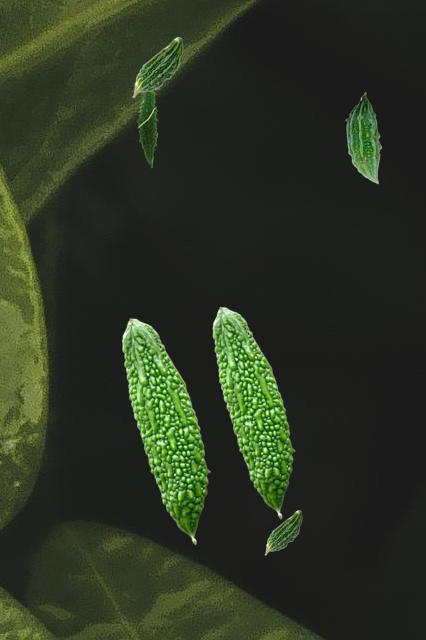ampalaya: (121, 318, 211, 545), (212, 306, 295, 519), (345, 91, 382, 184), (132, 36, 183, 98), (136, 88, 160, 168), (264, 510, 302, 555)
